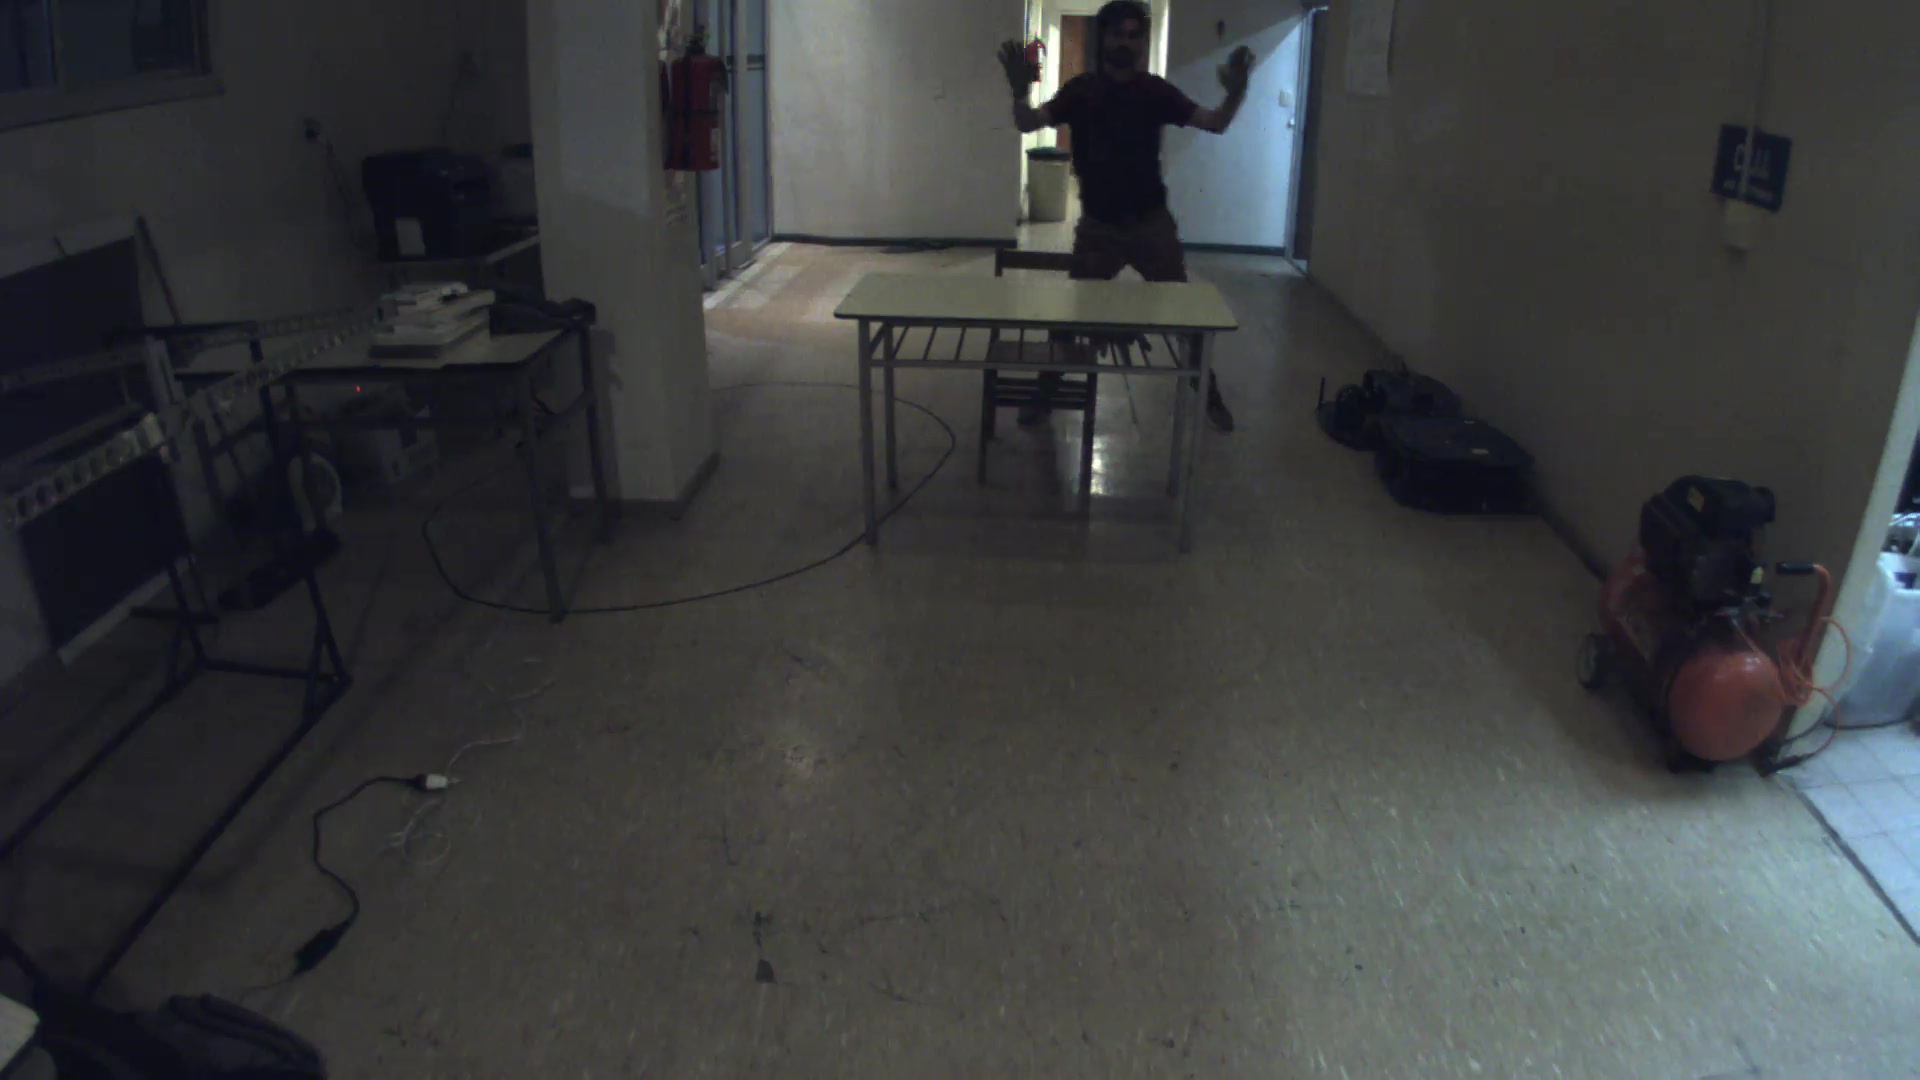hand: (998, 32, 1054, 100), (1215, 44, 1259, 103)
